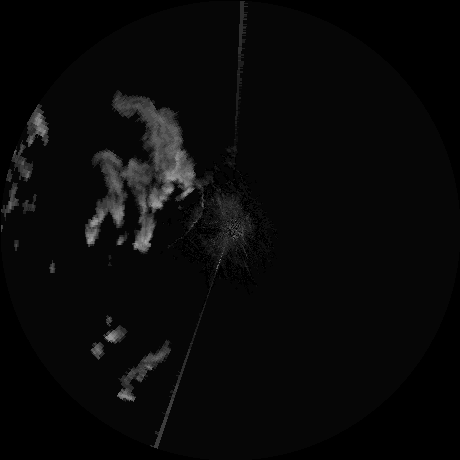frontgust: (188, 184, 207, 229)
